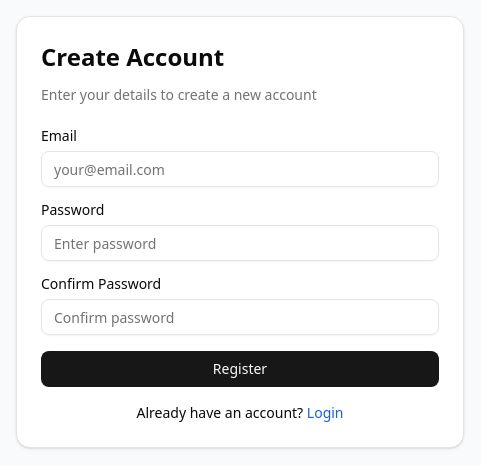
Test: Register Page › shows loading state while registering
This screenshot has width=481, height=466.
Step 1. Type "test@example.com" into the field labelled "Email" → (240, 169), box [41,151,439,187]
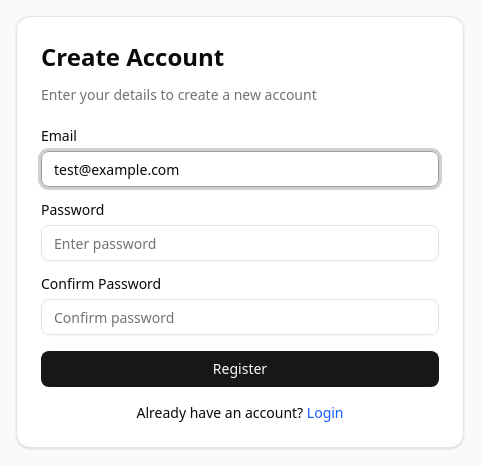
Step 2. Type "password123" into the password field labelled "Password" → (240, 243), box [41,225,439,261]
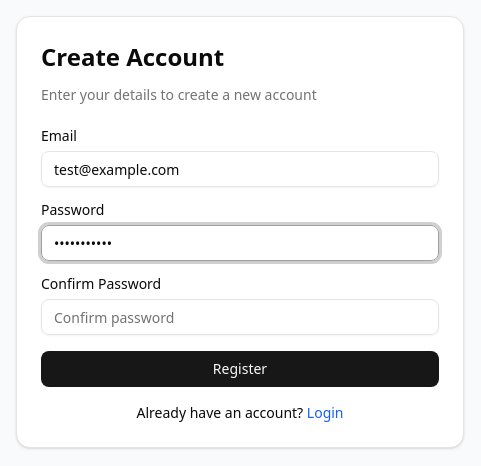
Step 3. Type "password123" into the password field labelled "Confirm Password" → (240, 317), box [41,299,439,335]
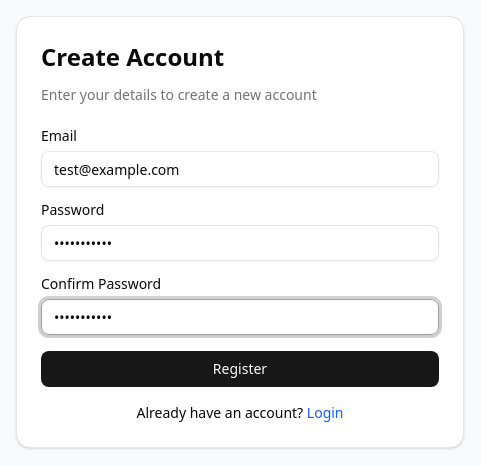
Step 4. Click the button "Register" → (240, 369), box [41,351,439,387]
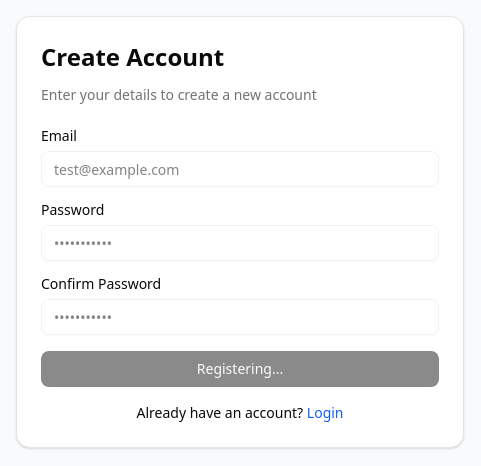
Now the button "Registering..." is disabled, box [41,351,439,387]
